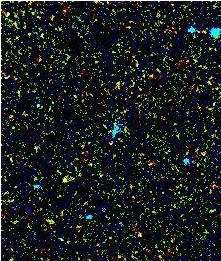star: (48, 165, 78, 195)
